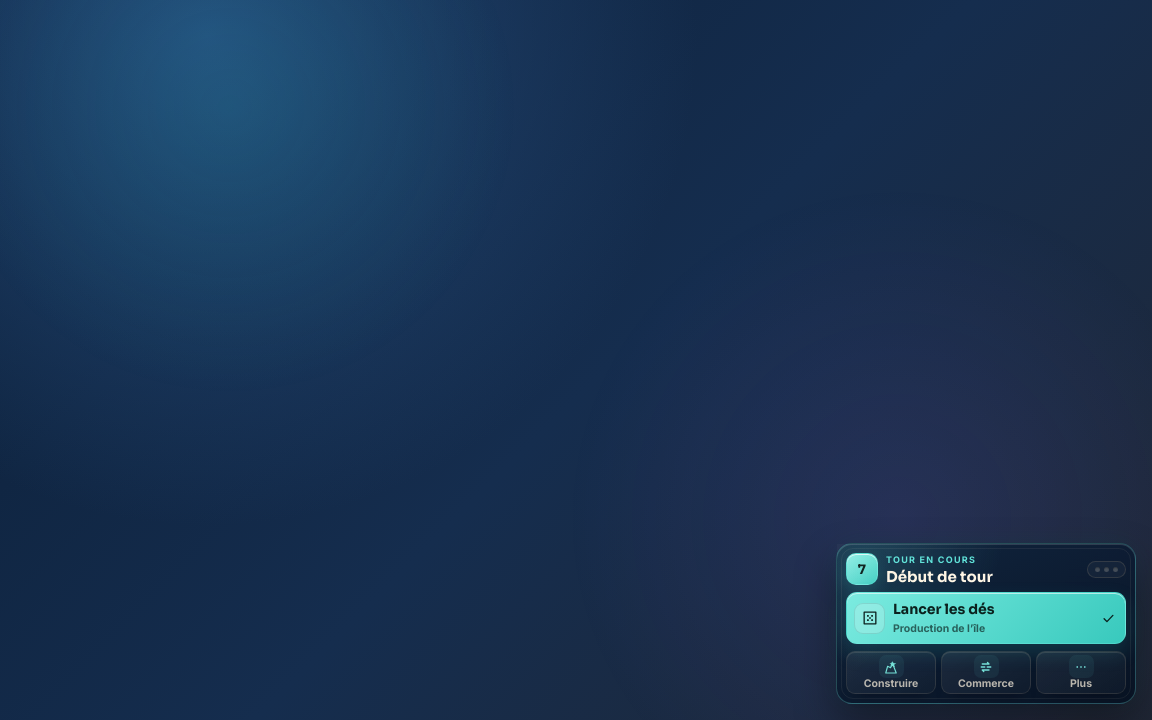
TurnActionPlanner › range les commandes secondaires dans un tiroir compact
Check: the button "Recherche" is not shown
Click the button with aria-label "Plus d’actions" at coordinates (1081, 672), box [1036, 651, 1126, 694]
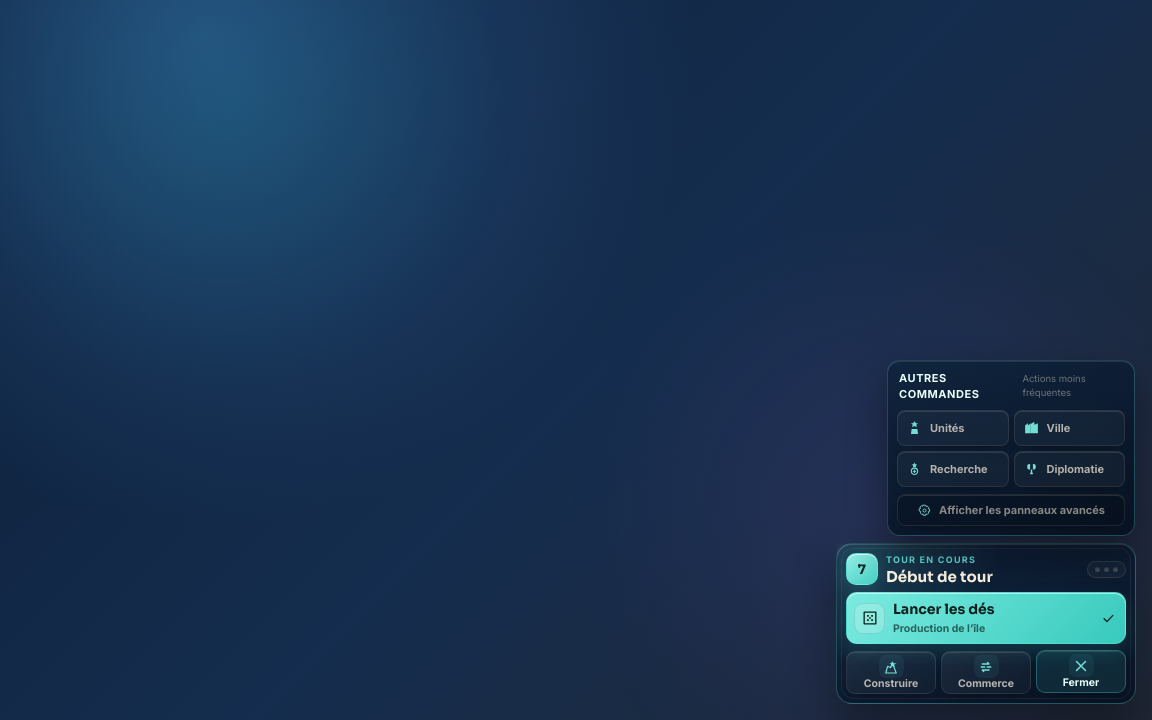
Click the button "Recherche" at coordinates (953, 469), box [897, 451, 1008, 487]
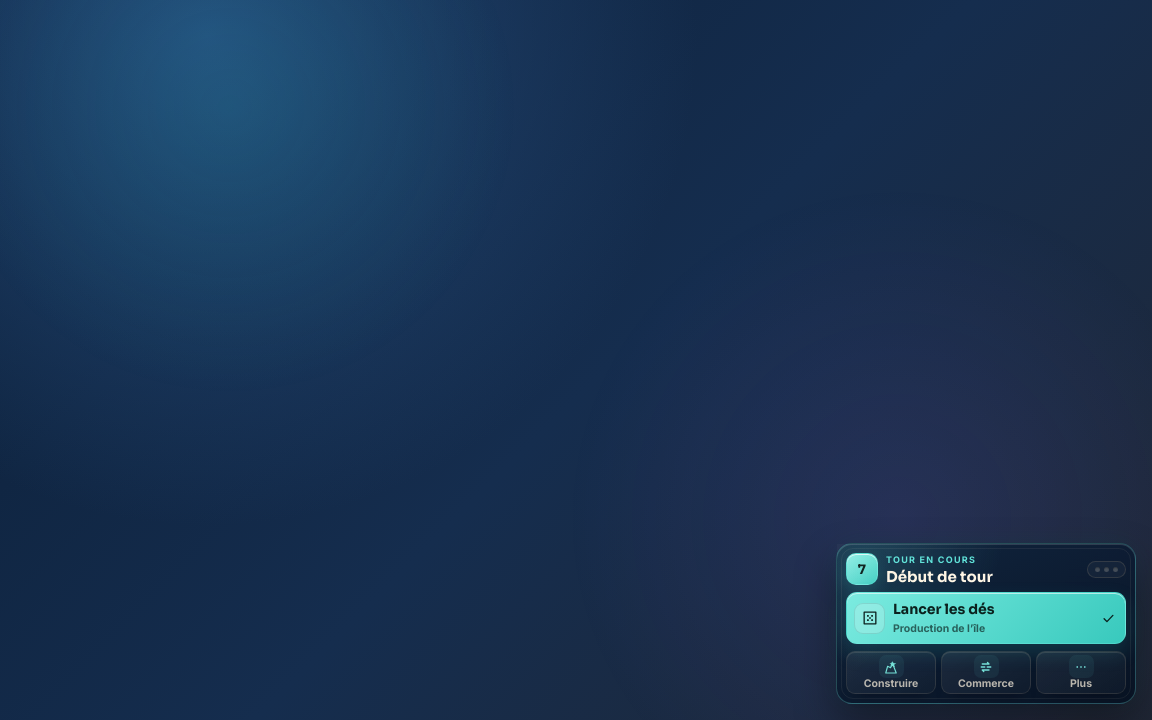
Check: the button "Recherche" is gone
